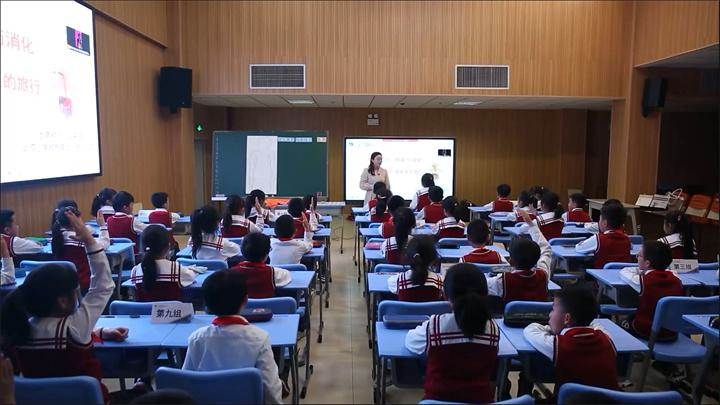distraction: (525, 285, 616, 377)
hands-up: (33, 215, 107, 345), (504, 206, 558, 288), (55, 203, 115, 253), (266, 214, 323, 263), (223, 193, 266, 240), (286, 197, 328, 233)
listen: (398, 269, 498, 376), (189, 271, 272, 360), (136, 229, 182, 294), (630, 242, 681, 295), (234, 238, 290, 286), (580, 208, 629, 262), (114, 188, 142, 238)
stand: (410, 169, 436, 205)
